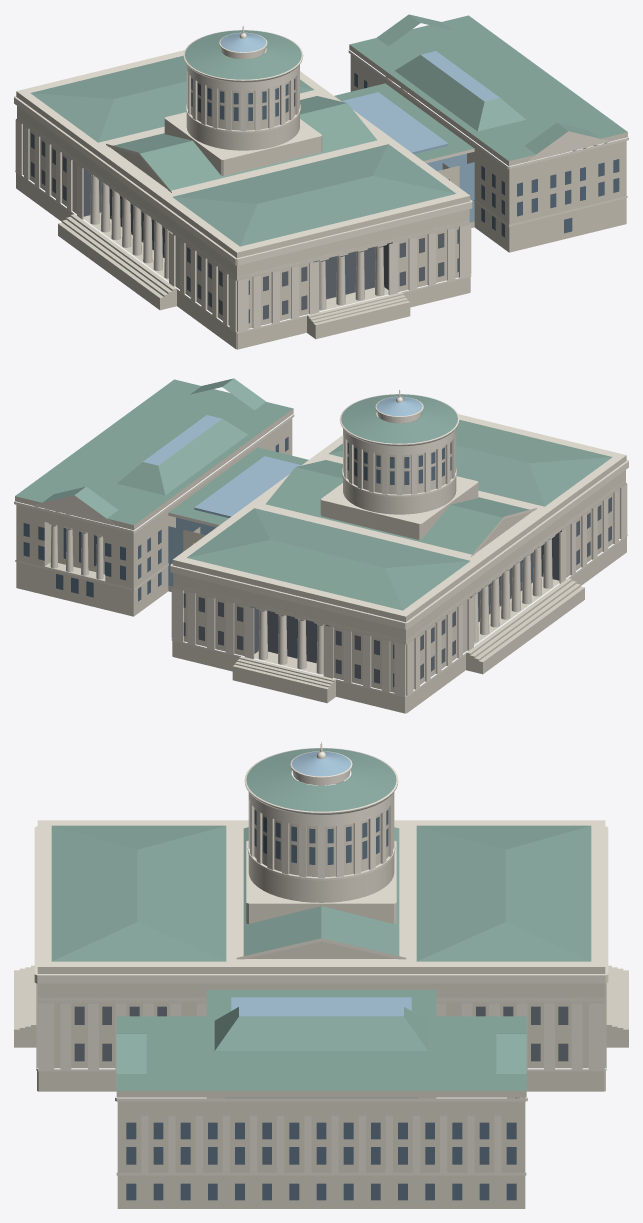
File: cmh-ohio-statehouse.glb
The picture shows the model from 3 angles, top to bottom: view 1: azimuth 30°, elevation 25°; view 2: azimuth 150°, elevation 25°; view 3: azimuth 270°, elevation 25°; orthographic projection. The views are drawn at different scales.
Parts seen in each view (by area): view 1: Ohio Statehouse; view 2: Ohio Statehouse; view 3: Ohio Statehouse.
Part boxes in pixels (x1,y1,x2,y2): Ohio Statehouse: (14,14,628,349); Ohio Statehouse: (14,378,628,713); Ohio Statehouse: (14,742,628,1208).
Bounding box in the file's own units: 107 × 49.9 × 101.
